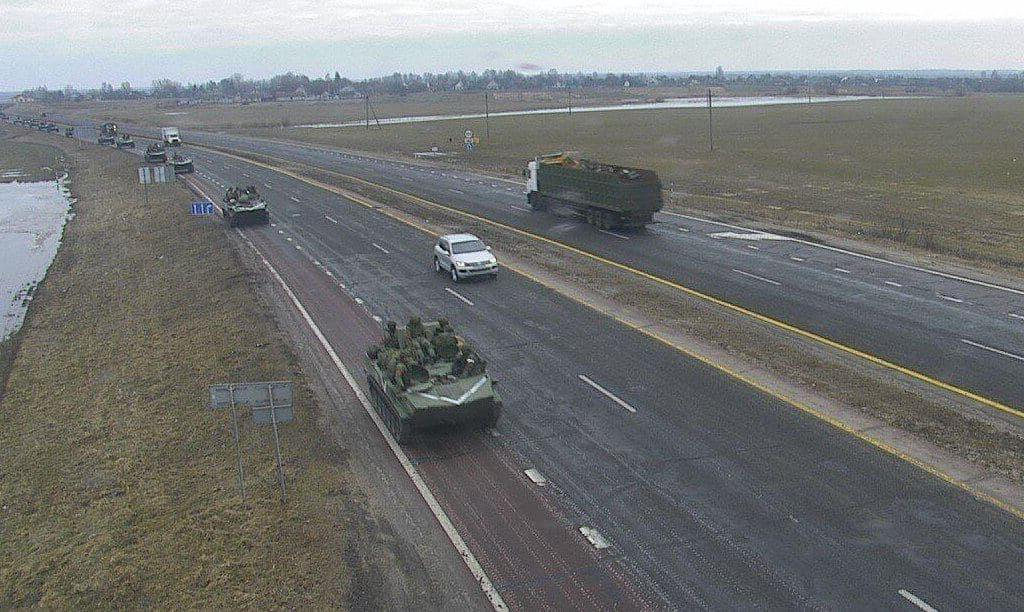car: (434, 230, 504, 286)
person: (394, 350, 418, 393), (406, 317, 426, 342), (384, 319, 398, 348)
tank: (364, 314, 504, 442), (220, 186, 267, 230), (167, 150, 192, 174), (143, 143, 169, 166), (112, 132, 135, 150), (94, 132, 116, 147), (46, 123, 62, 135), (64, 126, 79, 138)
truck: (524, 152, 660, 230), (160, 127, 186, 144)
